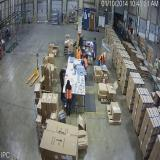Vest: (66, 85, 72, 99), (99, 53, 105, 65), (59, 74, 65, 85), (82, 58, 89, 67), (77, 48, 81, 60), (155, 62, 158, 70), (155, 55, 158, 61)
